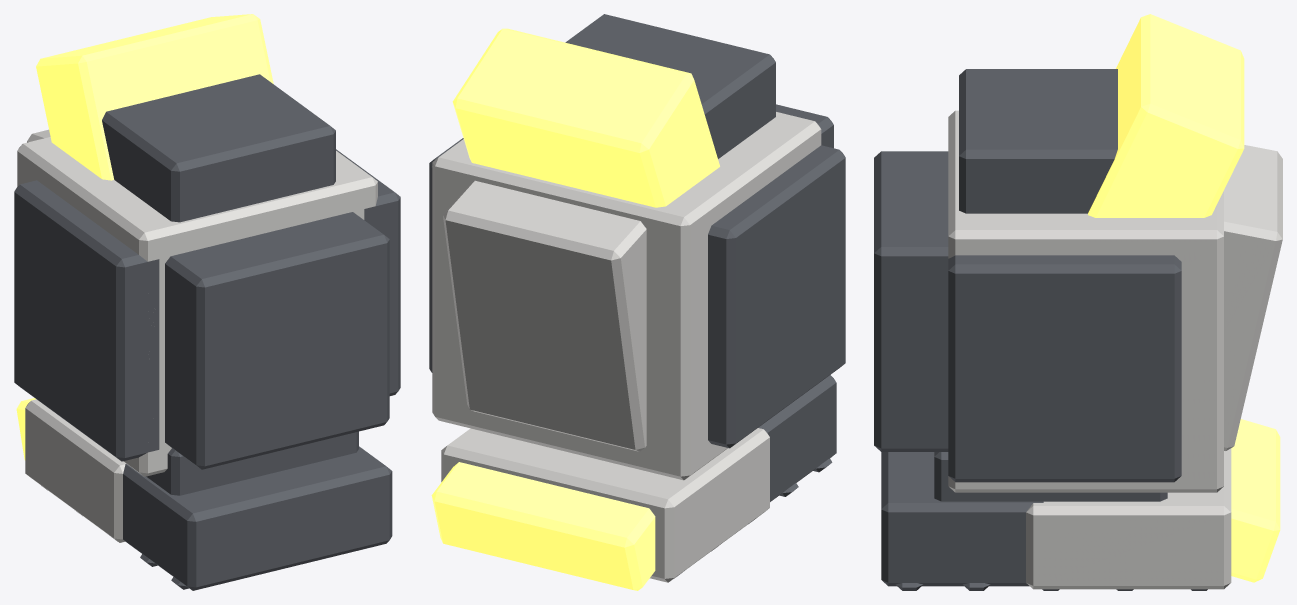
Rendered from tankhead_leg_right_lower.glb.
The picture shows the model from 3 angles, left to right: view 1: azimuth 30°, elevation 25°; view 2: azimuth 150°, elevation 25°; view 3: azimuth 270°, elevation 25°; orthographic projection. The views are drawn at different scales.
Parts seen in each view (by area): view 1: tankhead_leg_right_lower; view 2: tankhead_leg_right_lower; view 3: tankhead_leg_right_lower.
Part boxes in pixels (x1=…): tankhead_leg_right_lower: x1=14, y1=14, x2=400, y2=590; tankhead_leg_right_lower: x1=429, y1=14, x2=845, y2=590; tankhead_leg_right_lower: x1=874, y1=14, x2=1282, y2=590.
Bounding box in the file's own units: 1 × 1.5 × 1.16.
